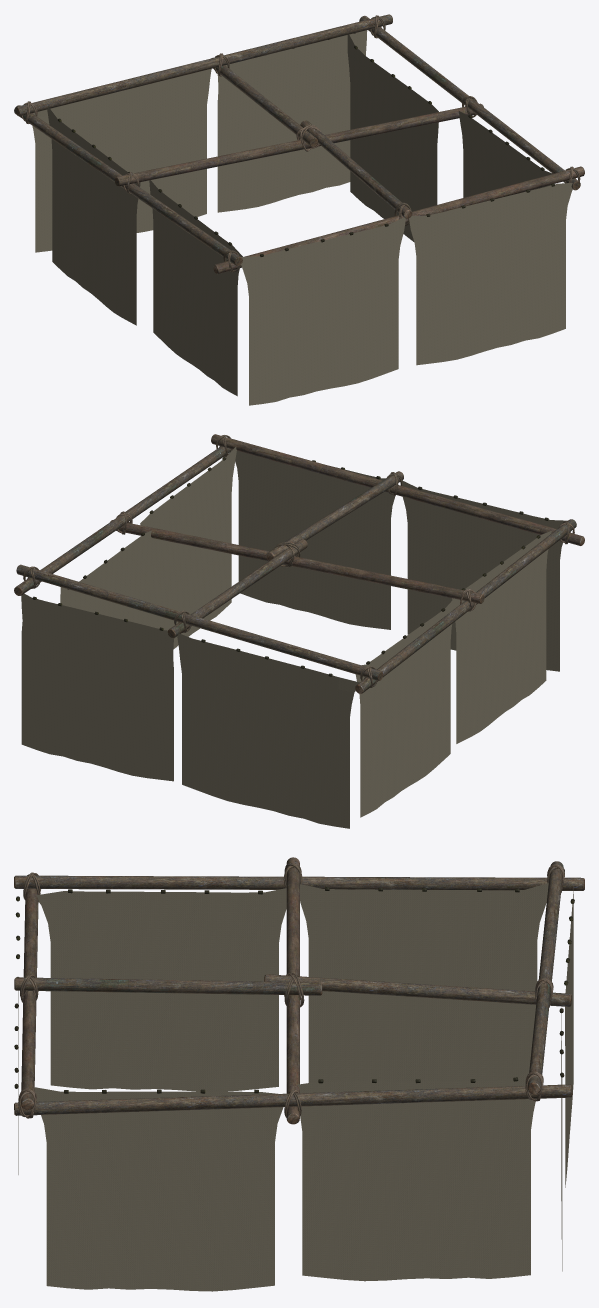
The model's file is SM_FishNet_base_01.fbx.
The picture shows the model from 3 angles, top to bottom: view 1: azimuth 30°, elevation 25°; view 2: azimuth 150°, elevation 25°; view 3: azimuth 270°, elevation 25°; orthographic projection. The views are drawn at different scales.
Visible parts, largest first — view 1: SM_FishNet_base_01_LOD0; view 2: SM_FishNet_base_01_LOD0; view 3: SM_FishNet_base_01_LOD0.
Part boxes in pixels (x1,y1,x2,y2): SM_FishNet_base_01_LOD0: [14, 14, 584, 405]; SM_FishNet_base_01_LOD0: [14, 434, 584, 828]; SM_FishNet_base_01_LOD0: [14, 857, 584, 1291].
Size of the model in its own units: 1201 by 1228 by 539.
3 materials, 3 textured.
